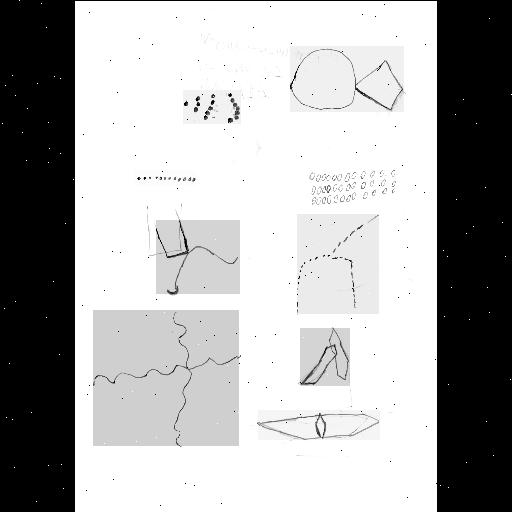shape-1: (290, 46, 404, 112)
shape-2: (134, 170, 196, 186)
shape-3: (310, 168, 396, 206)
shape-4: (183, 90, 241, 124)
shape-5: (156, 220, 240, 294)
shape-6: (297, 214, 379, 314)
shape-7: (93, 310, 239, 446)
shape-8: (300, 328, 350, 386)
shape-9: (258, 410, 380, 440)
